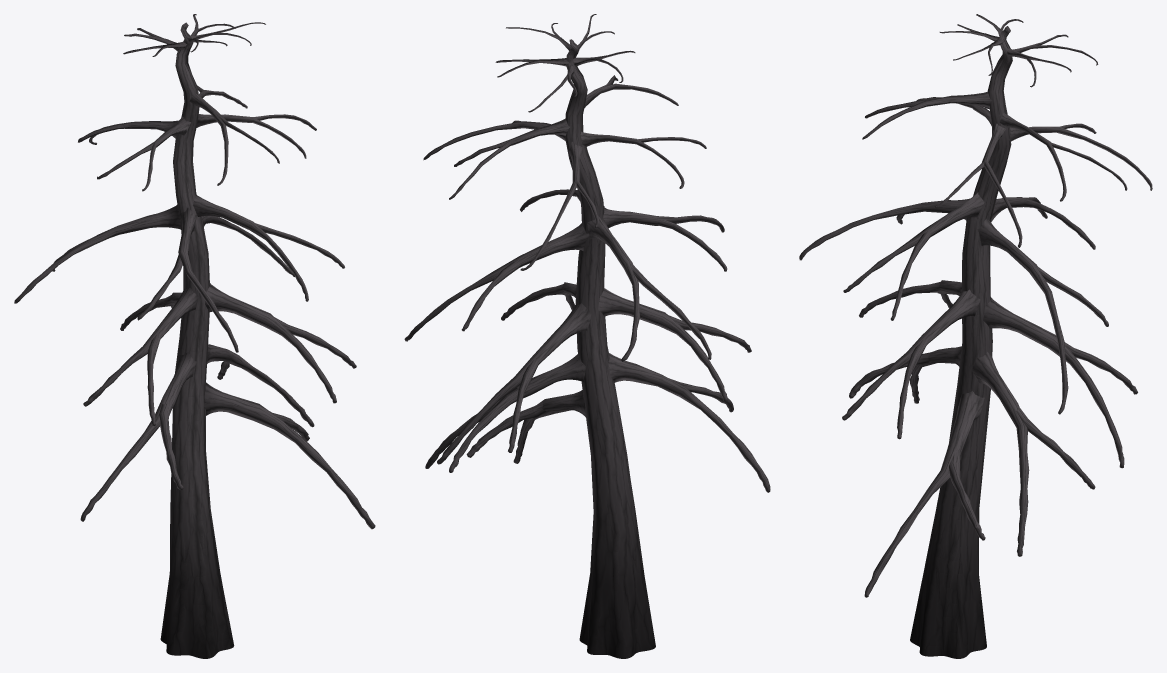
Rendered from DeadTree_5.gltf.
3 renders of one model, left to right at view 1: azimuth 30°, elevation 25°; view 2: azimuth 150°, elevation 25°; view 3: azimuth 270°, elevation 25°, orthographic. The views are drawn at different scales.
Parts seen in each view (by area): view 1: DeadTree_5; view 2: DeadTree_5; view 3: DeadTree_5.
Part boxes in pixels (x1,y1,x2,y2): DeadTree_5: [14, 14, 375, 658]; DeadTree_5: [404, 14, 770, 658]; DeadTree_5: [799, 14, 1152, 658].
Bounding box in the file's own units: 8.36 × 16.44 × 8.41.
1 material, 1 textured.
